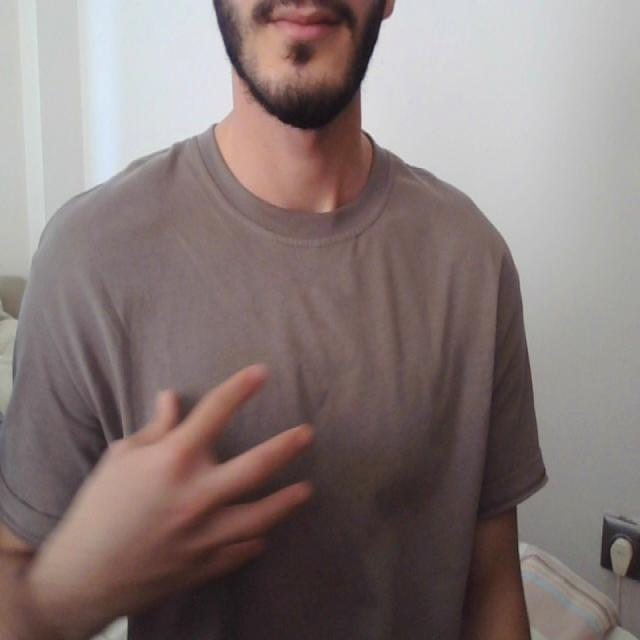Anne: (61, 338, 509, 619)
